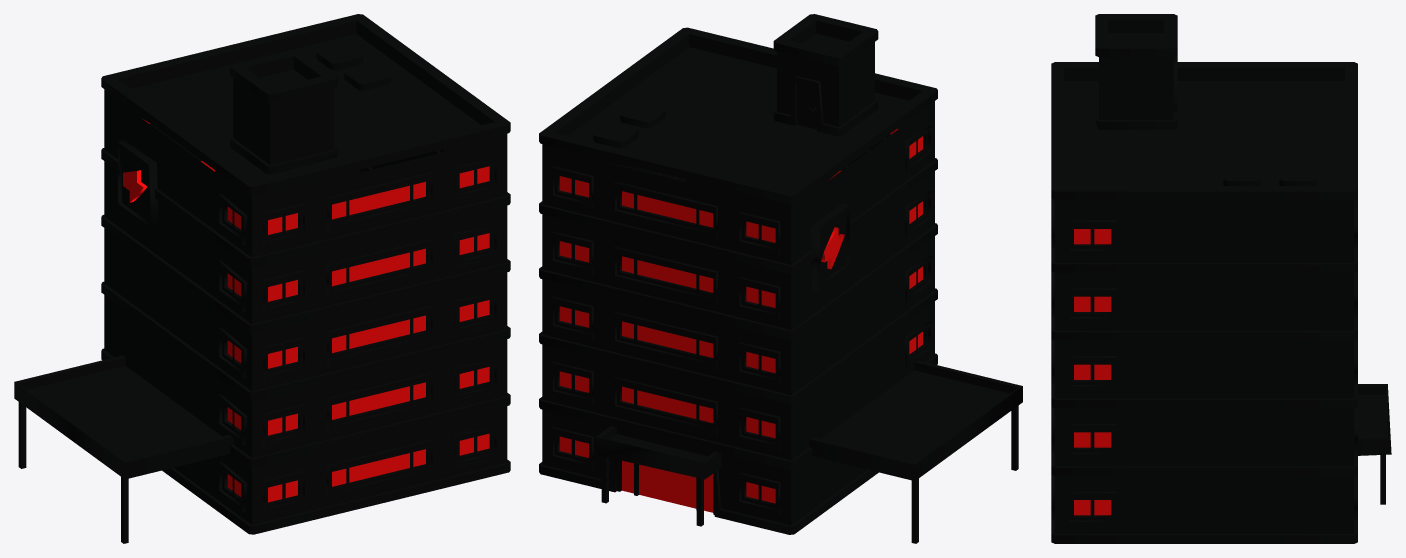
Rendered from building-n.glb.
3 renders of one model, left to right at view 1: azimuth 30°, elevation 25°; view 2: azimuth 150°, elevation 25°; view 3: azimuth 270°, elevation 25°, orthographic. The views are drawn at different scales.
Parts seen in each view (by area): view 1: building-n; view 2: building-n; view 3: building-n.
Boxes of the visible parts, x1,y1,x2,y2 form: building-n: (14,14,510,543); building-n: (539,14,1022,543); building-n: (1051,14,1391,543).
Size of the model in its own units: 2.3 by 2.48 by 1.82.
1 material, 1 textured.
